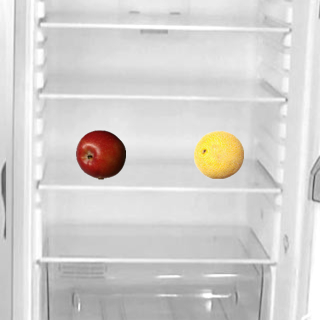Apple Braeburn: (75, 129, 125, 179)
Cantaloupe 1: (193, 129, 243, 179)
